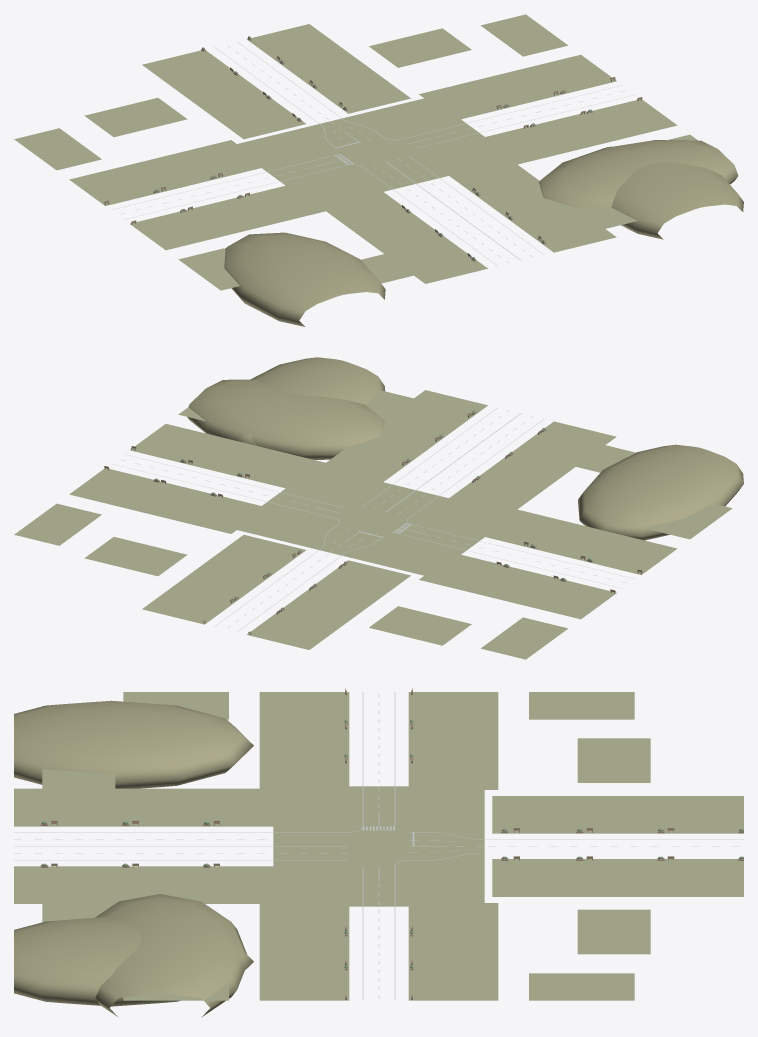
The picture shows the model from 3 angles, top to bottom: view 1: azimuth 30°, elevation 25°; view 2: azimuth 150°, elevation 25°; view 3: azimuth 270°, elevation 25°; orthographic projection. The views are drawn at different scales.
Visible parts, largest first — view 1: static; view 2: static; view 3: static.
Part boxes in pixels (<box>): static: <box>14,14,743,326</box>; static: <box>14,357,743,659</box>; static: <box>14,688,743,1017</box>.
Size of what is drawn, in the model's own units: 180 by 14.08 by 180.
